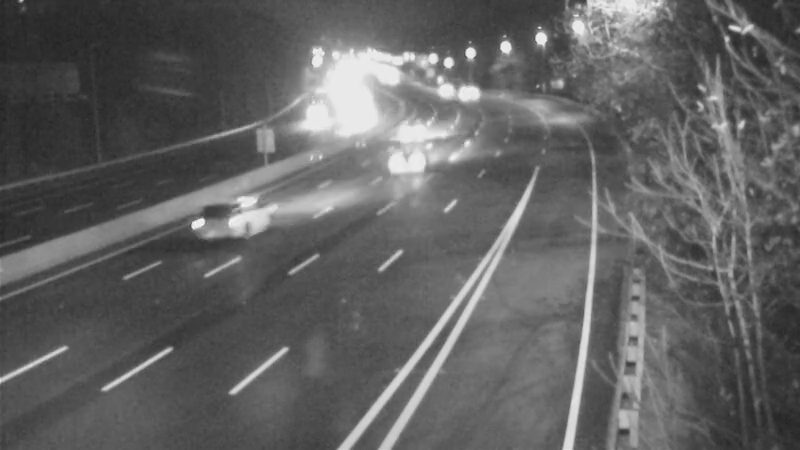vehicle: (369, 120, 449, 200), (178, 180, 258, 260), (421, 61, 471, 111), (443, 66, 493, 116), (384, 102, 434, 152), (288, 91, 338, 141)
